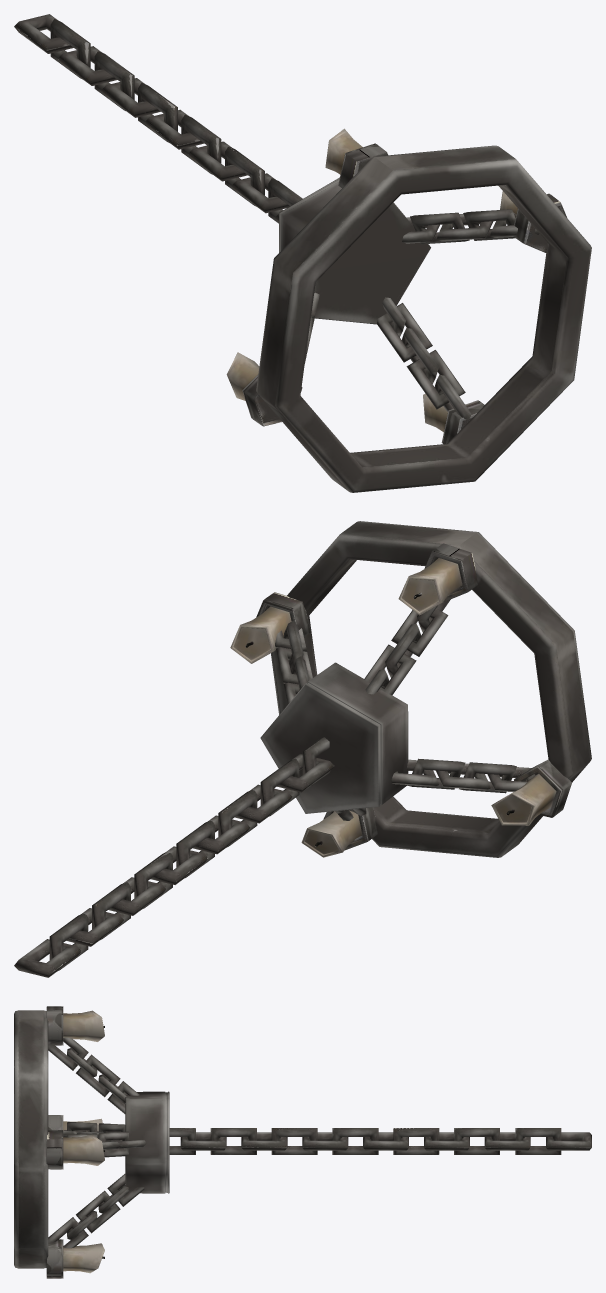
The model's file is Candelabro Techo Fin.FBX.
3 views of the same model, one above another, from view 1: azimuth 30°, elevation 25°; view 2: azimuth 150°, elevation 25°; view 3: azimuth 270°, elevation 25° (orthographic). The views are drawn at different scales.
Visible parts, largest first — view 1: Candelabro_techo; view 2: Candelabro_techo; view 3: Candelabro_techo.
Part boxes in pixels (box(x1,y1,x2,y2)): Candelabro_techo: box(14, 14, 591, 492); Candelabro_techo: box(14, 521, 591, 977); Candelabro_techo: box(14, 1006, 591, 1278).
Bounding box in the file's own units: 43.04 × 42.89 × 96.69.
Materials: 1 (1 with a texture image).
